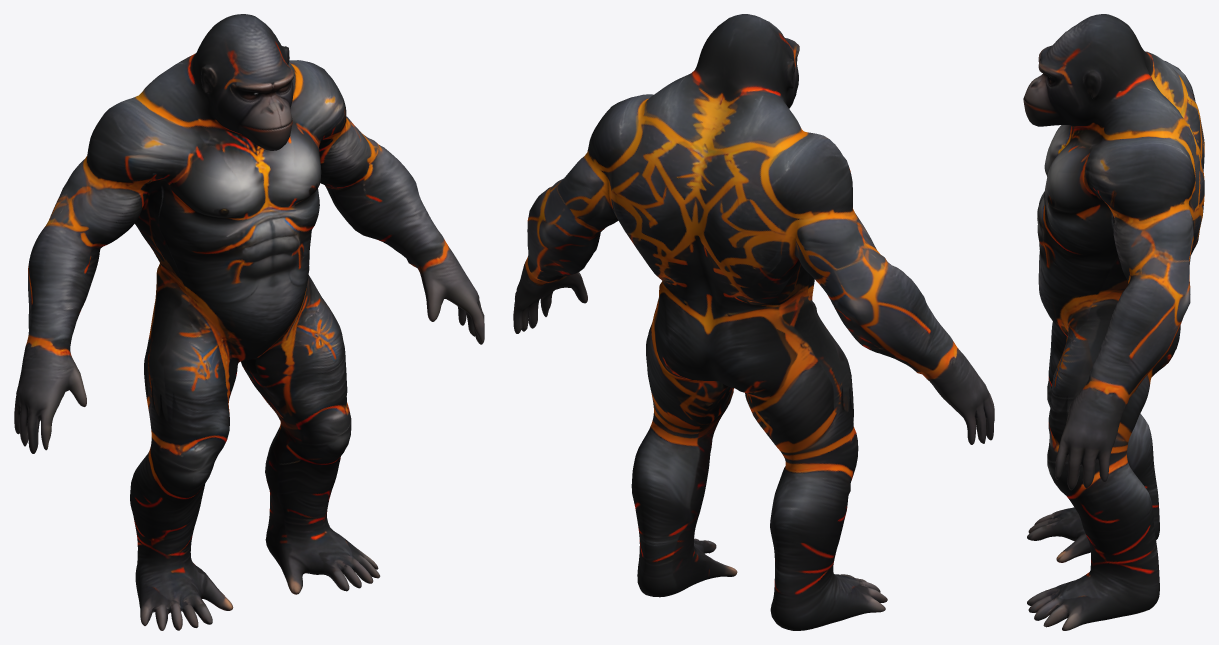
The model's file is firegorilla.fbx.
3 renders of one model, left to right at view 1: azimuth 30°, elevation 25°; view 2: azimuth 150°, elevation 25°; view 3: azimuth 270°, elevation 25°, orthographic. The views are drawn at different scales.
Parts seen in each view (by area): view 1: model; view 2: model; view 3: model.
Part boxes in pixels (x1=…): model: x1=14, y1=14, x2=484, y2=630; model: x1=513, y1=14, x2=994, y2=630; model: x1=1023, y1=14, x2=1204, y2=630.
Bounding box in the file's own units: 158 × 189 × 55.38.
1 material, 1 textured.
